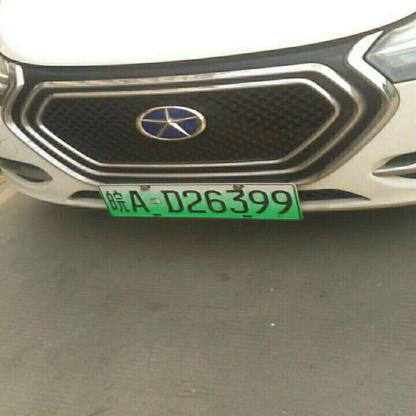lp: (98, 182, 302, 219)
